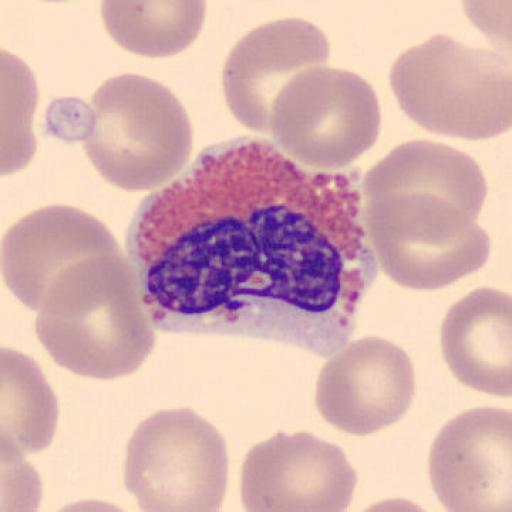RBC: (33, 253, 156, 383), (81, 71, 195, 194), (2, 202, 127, 314), (388, 32, 512, 142), (368, 188, 492, 293), (361, 136, 489, 235), (220, 16, 330, 130), (268, 64, 382, 170), (122, 405, 231, 512), (314, 334, 418, 438), (240, 429, 360, 512), (426, 403, 512, 511), (439, 284, 512, 399), (99, 1, 208, 60), (1, 347, 60, 456), (0, 46, 40, 180), (0, 433, 43, 512), (459, 0, 512, 44), (342, 493, 447, 512), (40, 495, 144, 512)
WBC: (123, 134, 378, 344)
